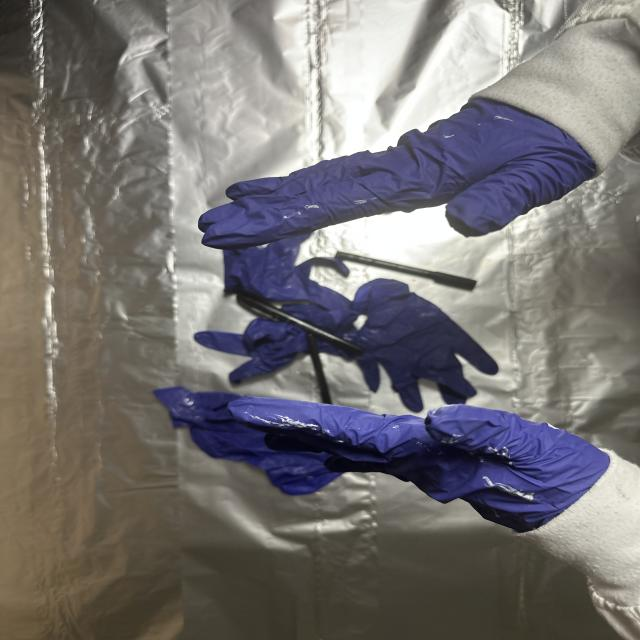gloves_contaminated: (199, 100, 595, 248), (229, 398, 609, 532)
